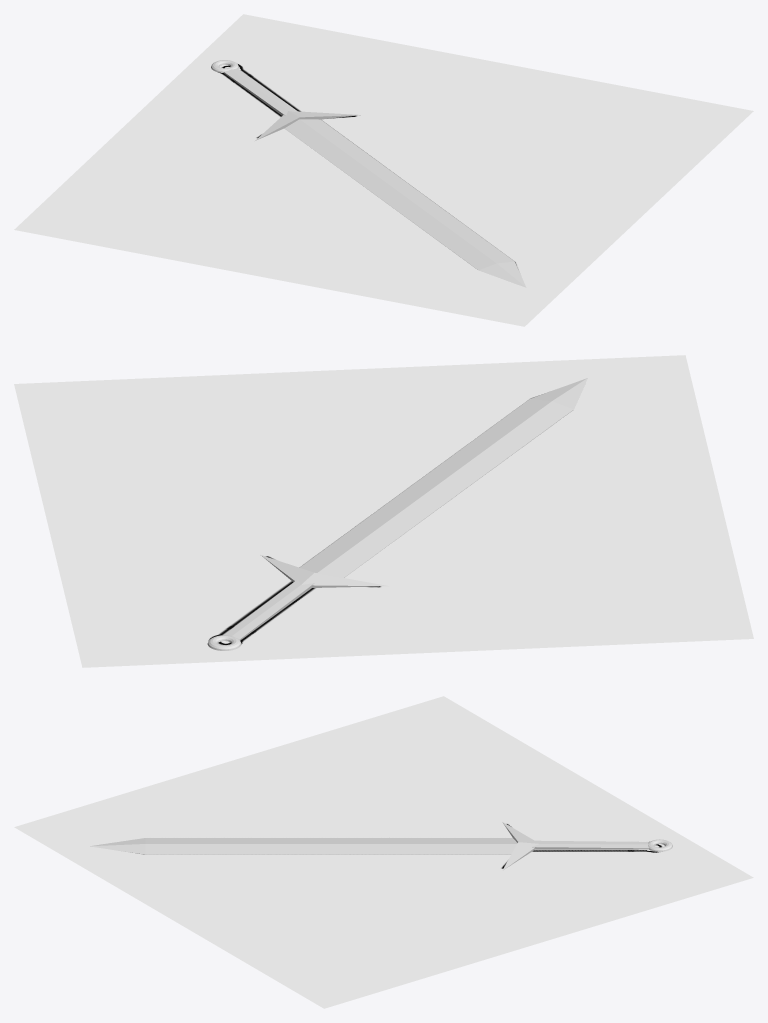
Rendered from TST_Sword.glb.
3 renders of one model, top to bottom at view 1: azimuth 30°, elevation 25°; view 2: azimuth 150°, elevation 25°; view 3: azimuth 270°, elevation 25°, orthographic. The views are drawn at different scales.
Visible parts, largest first — view 1: rtroop, Sword Blade, Sword Handle, Sword Guard; view 2: rtroop, Sword Blade, Sword Handle, Sword Guard; view 3: rtroop, Sword Blade, Sword Handle, Sword Guard.
Part boxes in pixels (box(x1,y1,x2,y2)): rtroop: box(14, 14, 753, 326); Sword Blade: box(284, 119, 526, 287); Sword Handle: box(223, 68, 299, 115); Sword Guard: box(255, 111, 360, 140); rtroop: box(14, 355, 753, 667); Sword Blade: box(300, 378, 587, 577); Sword Handle: box(223, 579, 314, 640); Sword Guard: box(261, 555, 388, 587); rtroop: box(14, 696, 753, 1008); Sword Blade: box(90, 838, 517, 854); Sword Handle: box(531, 840, 649, 849); Sword Guard: box(502, 822, 539, 870).
Bounding box in the file's own units: 55.84 × 0.6997 × 55.84.
Materials: 1 (1 with a texture image).
